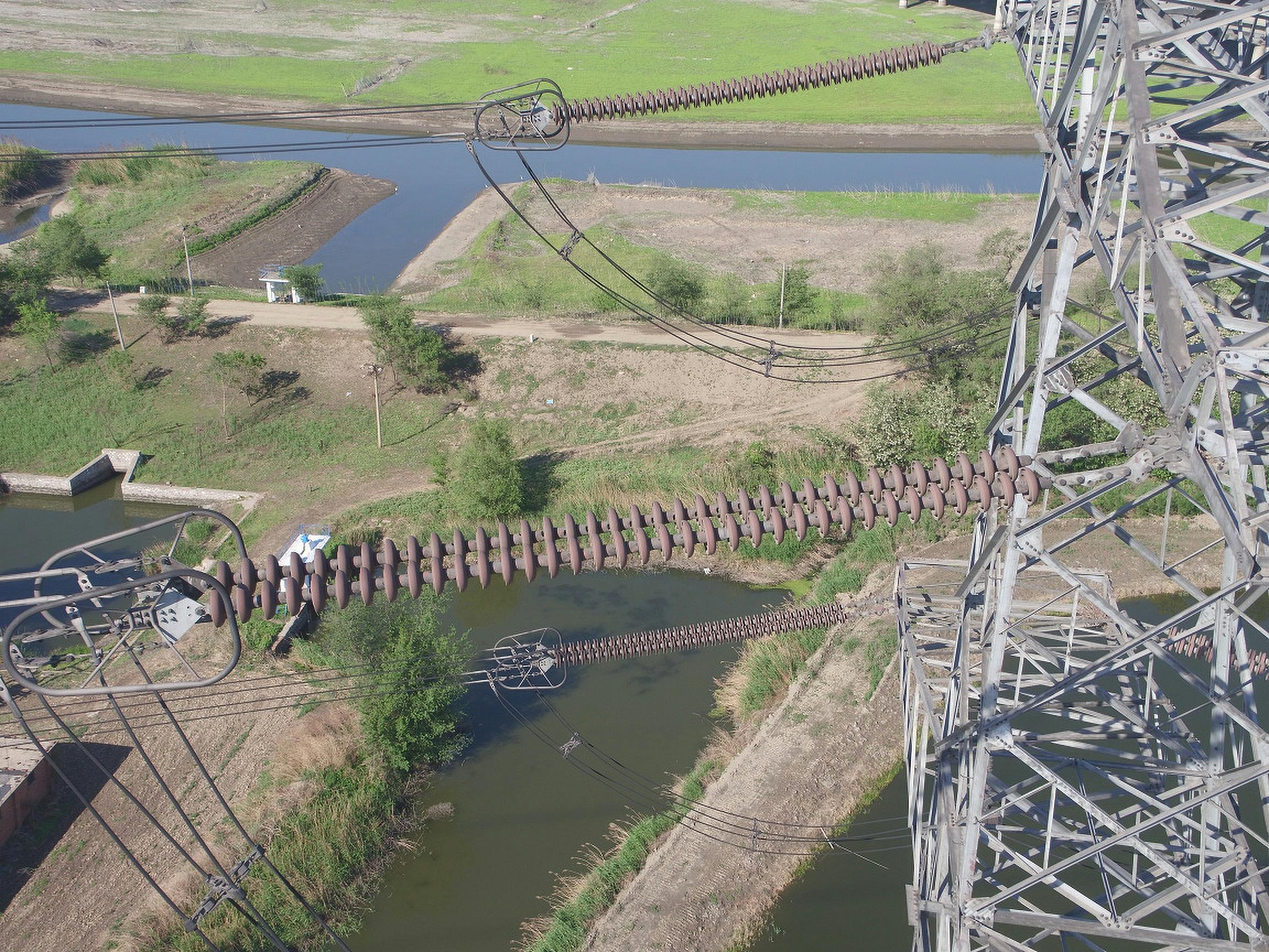insulator: (206, 443, 1043, 631), (549, 37, 945, 128), (547, 600, 848, 672), (1162, 623, 1269, 685)
